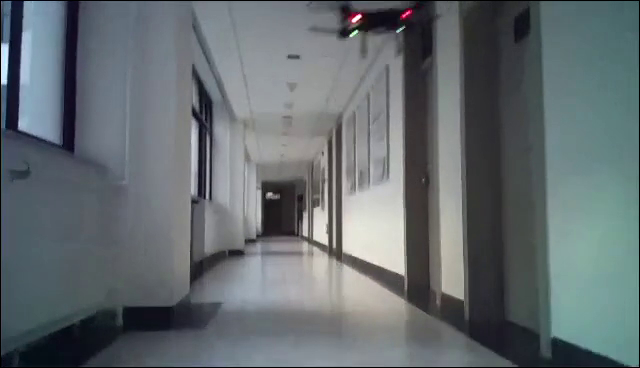drone: (305, 2, 444, 57)
